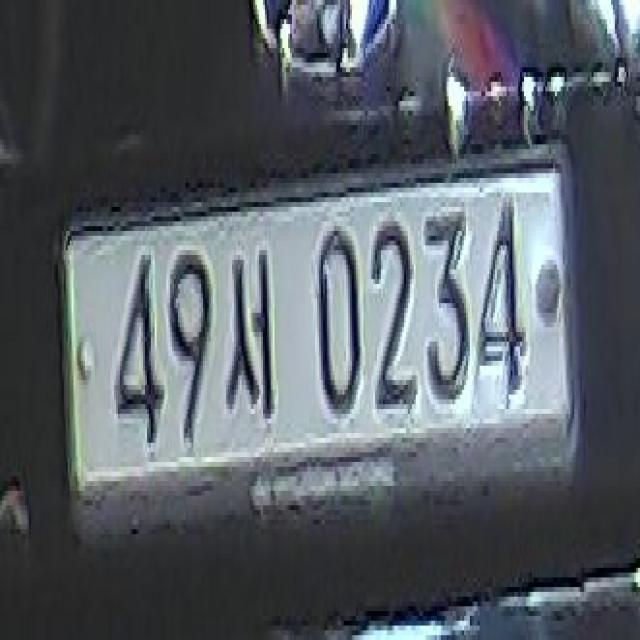0: (311, 218, 362, 438)
2: (372, 222, 419, 416)
3: (420, 192, 474, 408)
4: (476, 176, 536, 414), (115, 239, 165, 458)
9: (164, 230, 220, 460)
license_plate: (71, 150, 570, 522)
seo: (222, 225, 274, 438)
